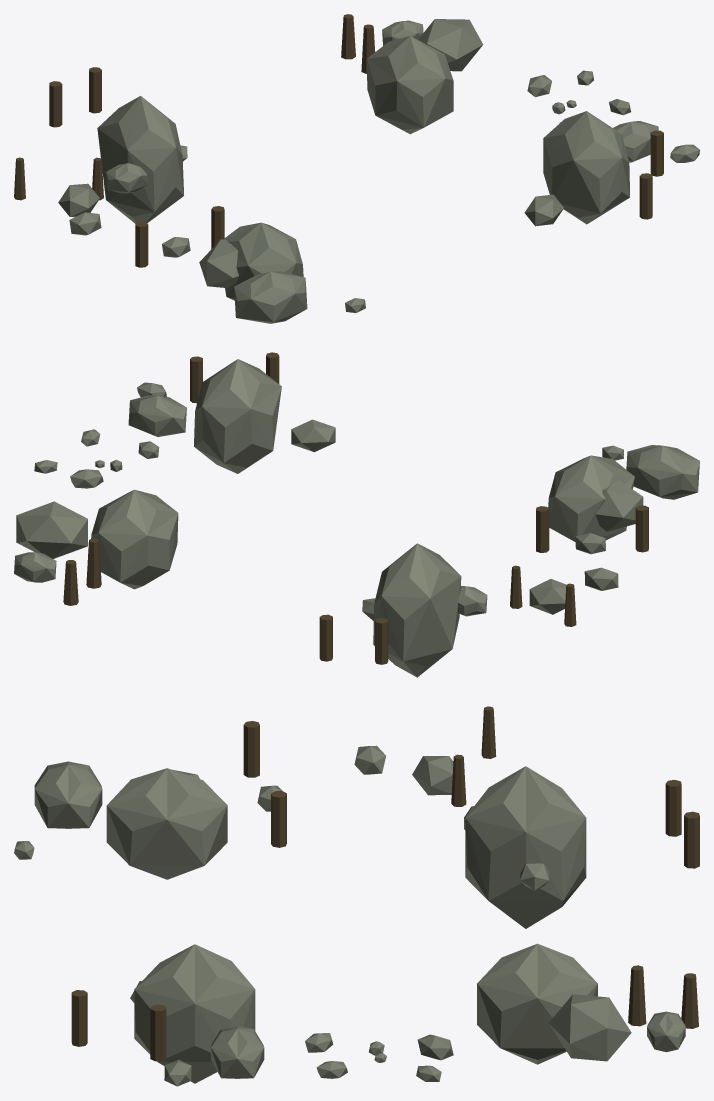
Rendered from path_narrow_pass_solid_props.fbx.
3 views of the same model, one above another, from view 1: azimuth 30°, elevation 25°; view 2: azimuth 150°, elevation 25°; view 3: azimuth 270°, elevation 25° (orthographic). The views are drawn at different scales.
Visible parts, largest first — view 1: chunk_path_narrow_pass__PropsSolid; view 2: chunk_path_narrow_pass__PropsSolid; view 3: chunk_path_narrow_pass__PropsSolid.
Boxes of the visible parts, <box> form: chunk_path_narrow_pass__PropsSolid: <box>14,14,699,323</box>; chunk_path_narrow_pass__PropsSolid: <box>14,352,699,677</box>; chunk_path_narrow_pass__PropsSolid: <box>14,706,699,1086</box>.
Bounding box in the file's own units: 201 × 47.98 × 174.
